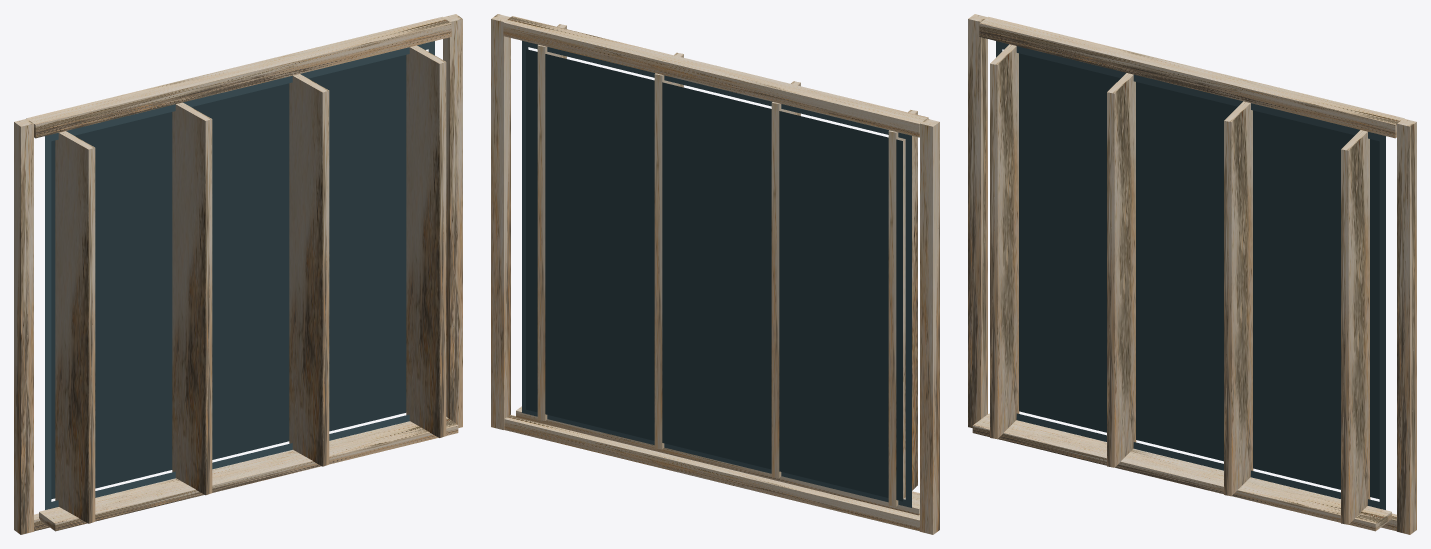
Rendered from facade_louvered_office_upper.glb.
3 renders of one model, left to right at view 1: azimuth 30°, elevation 25°; view 2: azimuth 150°, elevation 25°; view 3: azimuth 330°, elevation 25°, orthographic.
Visible parts, largest first — view 1: lod1_facade_louvered_office_upper__VVK_concrete_CC0, lod1_facade_louvered_office_upper__VVK_dark_glass, lod1_facade_louvered_office_upper__VVK_painted_steel; view 2: lod1_facade_louvered_office_upper__VVK_dark_glass, lod1_facade_louvered_office_upper__VVK_concrete_CC0, lod1_facade_louvered_office_upper__VVK_painted_steel; view 3: lod1_facade_louvered_office_upper__VVK_dark_glass, lod1_facade_louvered_office_upper__VVK_concrete_CC0, lod1_facade_louvered_office_upper__VVK_painted_steel.
Part boxes in pixels (x1,y1,x2,y2): lod1_facade_louvered_office_upper__VVK_concrete_CC0: (14, 14, 462, 534); lod1_facade_louvered_office_upper__VVK_dark_glass: (51, 50, 425, 499); lod1_facade_louvered_office_upper__VVK_painted_steel: (45, 41, 434, 509); lod1_facade_louvered_office_upper__VVK_dark_glass: (526, 49, 902, 501); lod1_facade_louvered_office_upper__VVK_concrete_CC0: (491, 14, 939, 534); lod1_facade_louvered_office_upper__VVK_painted_steel: (522, 40, 911, 507); lod1_facade_louvered_office_upper__VVK_dark_glass: (1019, 53, 1379, 499); lod1_facade_louvered_office_upper__VVK_concrete_CC0: (968, 14, 1416, 534); lod1_facade_louvered_office_upper__VVK_painted_steel: (996, 41, 1385, 509).
Bounding box in the file's own units: 3.4 × 3 × 0.4042.
3 materials, 1 textured.
